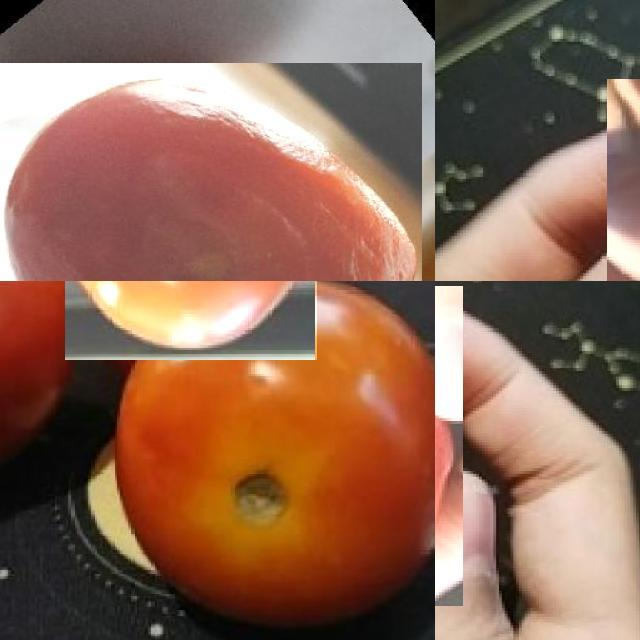Fresh Tomato: (110, 281, 435, 640), (65, 281, 317, 360), (0, 281, 72, 509)
Rotten Tomato: (0, 63, 421, 281)
